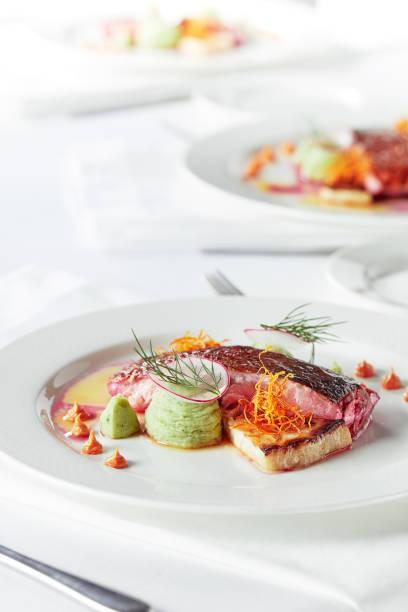Braised Crucian Carp: (2, 296, 403, 523)
